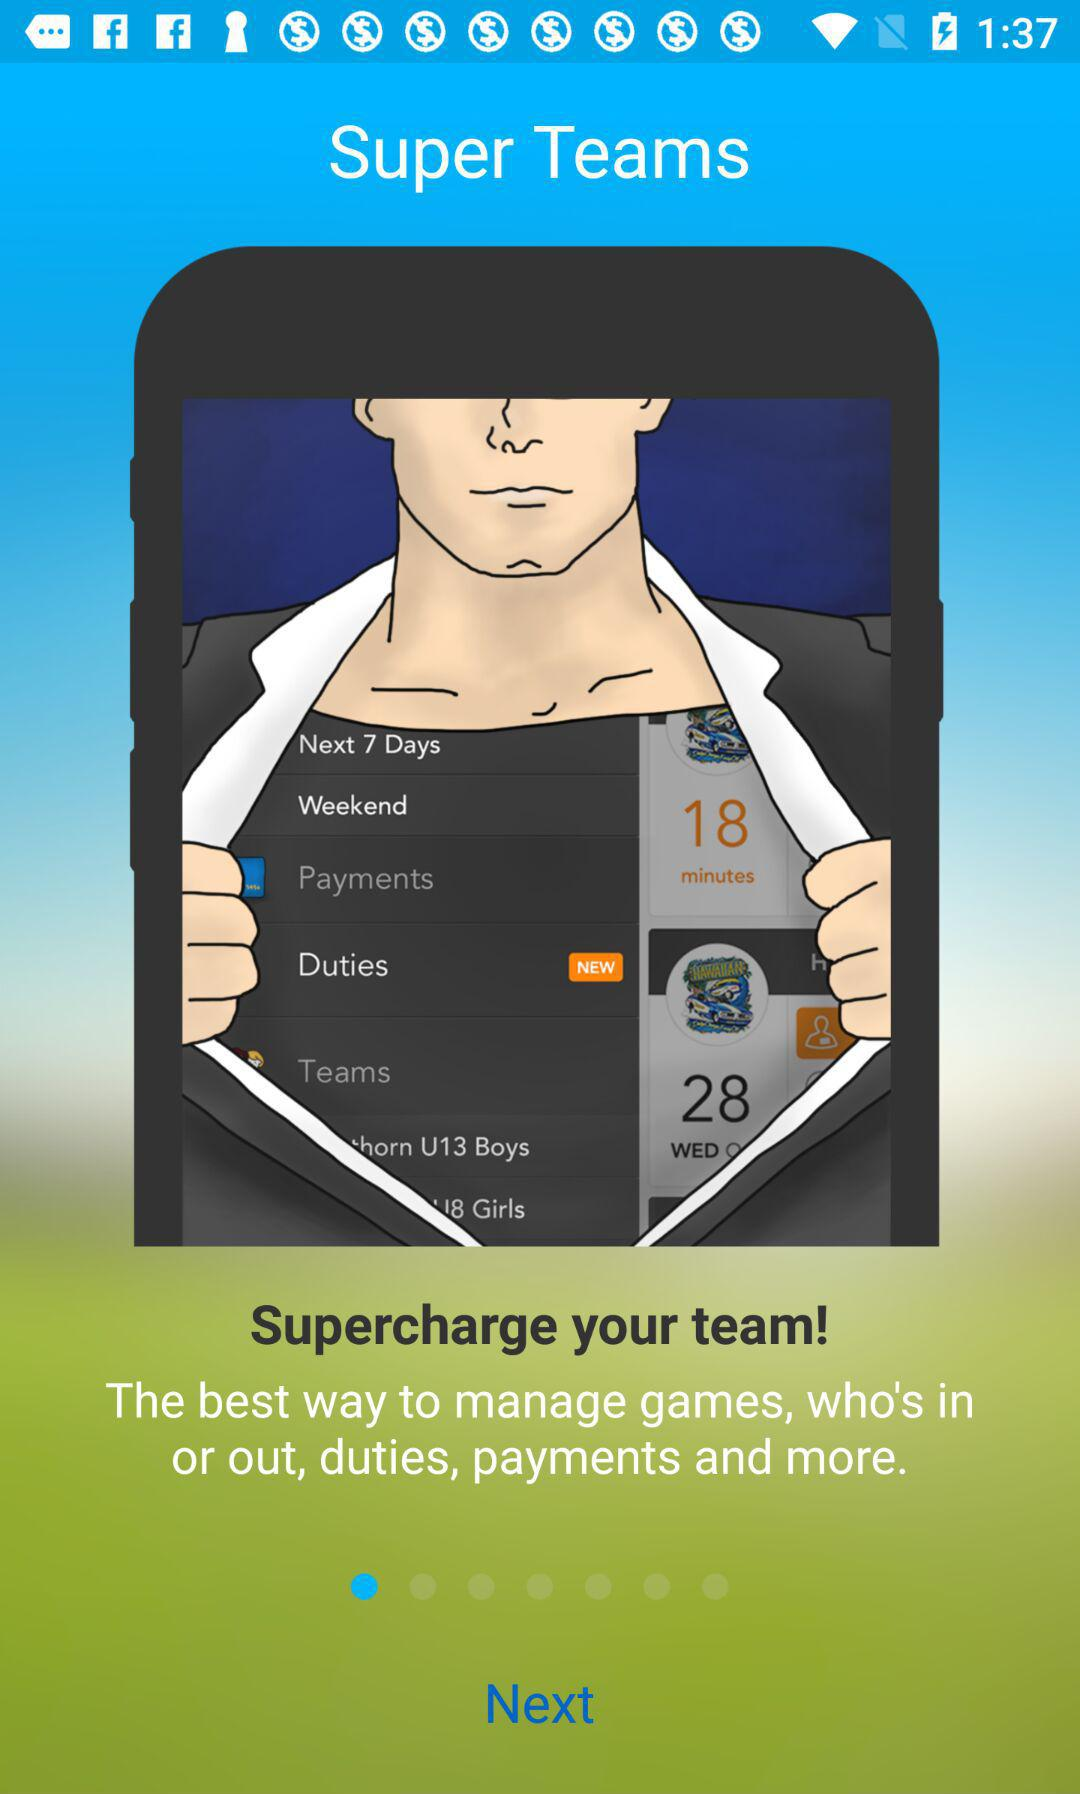Image: (128, 245, 945, 1247)
PageIndicator: (350, 1571, 732, 1602)
Text: (105, 1379, 974, 1483), (250, 1302, 830, 1357), (329, 124, 749, 196), (487, 1683, 596, 1726)
UpperTaskBar: (1, 1, 1080, 64)
